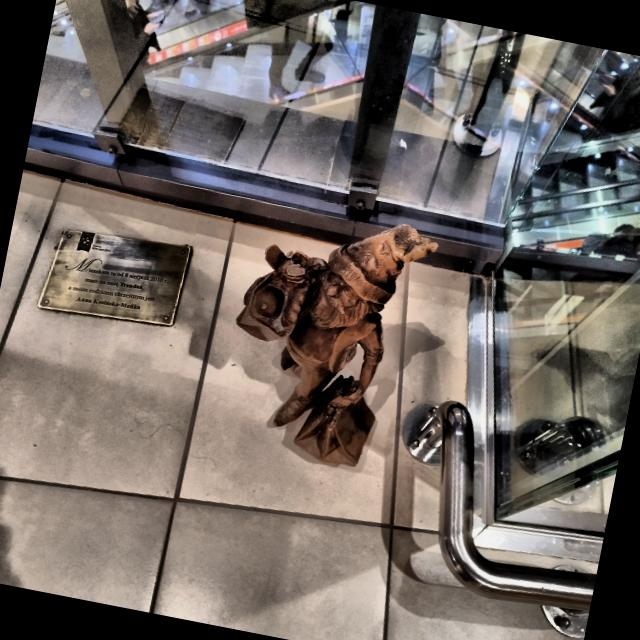Trendus: (236, 225, 438, 468)
